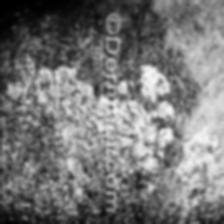Non-Cancerous Skin Condition: (0, 6, 100, 216), (118, 24, 198, 218)
